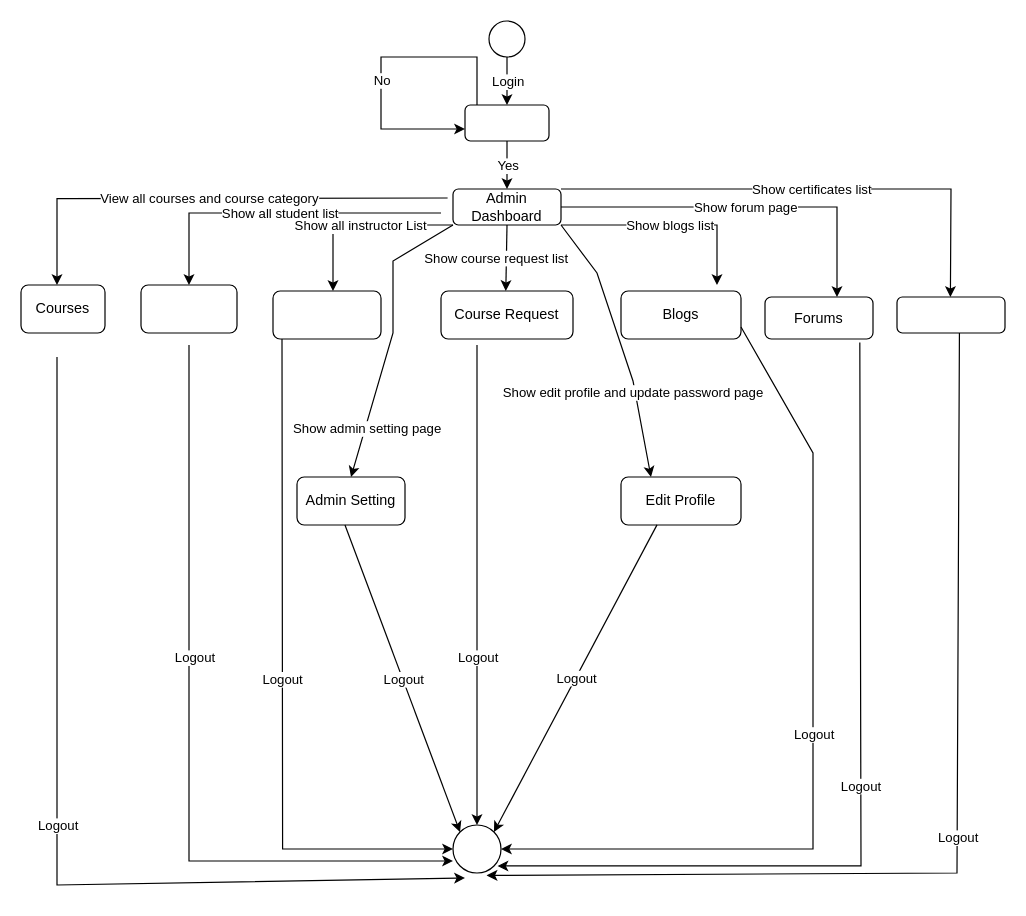
The diagram is 1026 pixels wide and 916 high, and some of its shapes have lost their labels. Each missing label, with the centre of its shape:
"Certificates" belongs at pixel 950 314.
"Instructors" belongs at pixel 326 314.
"Login Page" belongs at pixel 506 122.
"Students" belongs at pixel 188 308.
